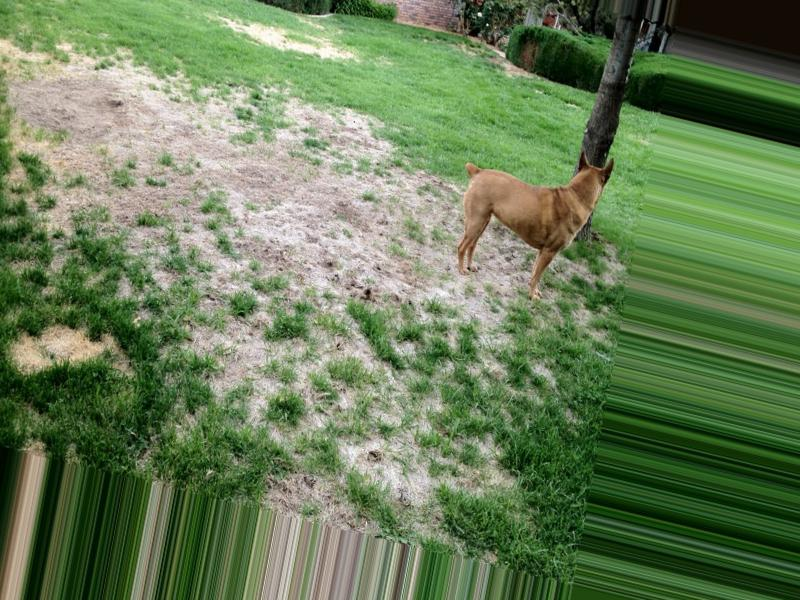patch: (206, 136, 300, 210), (337, 175, 401, 254), (59, 72, 157, 116), (286, 242, 348, 296), (383, 267, 428, 289)
w: (213, 126, 366, 240), (65, 76, 180, 158), (384, 182, 430, 260), (331, 251, 378, 292), (369, 443, 406, 484), (137, 186, 168, 210), (465, 281, 484, 314), (239, 340, 257, 349)
